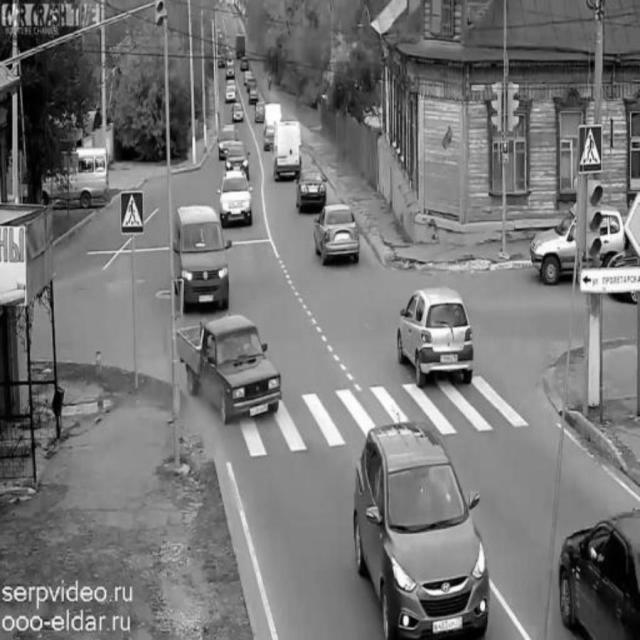vehicle: (354, 421, 490, 638), (175, 317, 279, 425), (557, 509, 640, 640), (533, 202, 629, 283), (398, 290, 474, 384), (173, 209, 231, 313), (43, 145, 109, 206), (312, 205, 360, 263), (273, 120, 303, 184), (219, 168, 253, 223), (295, 165, 329, 213), (216, 125, 242, 159), (233, 32, 249, 60), (246, 81, 260, 108), (223, 82, 239, 102), (222, 59, 237, 79)
